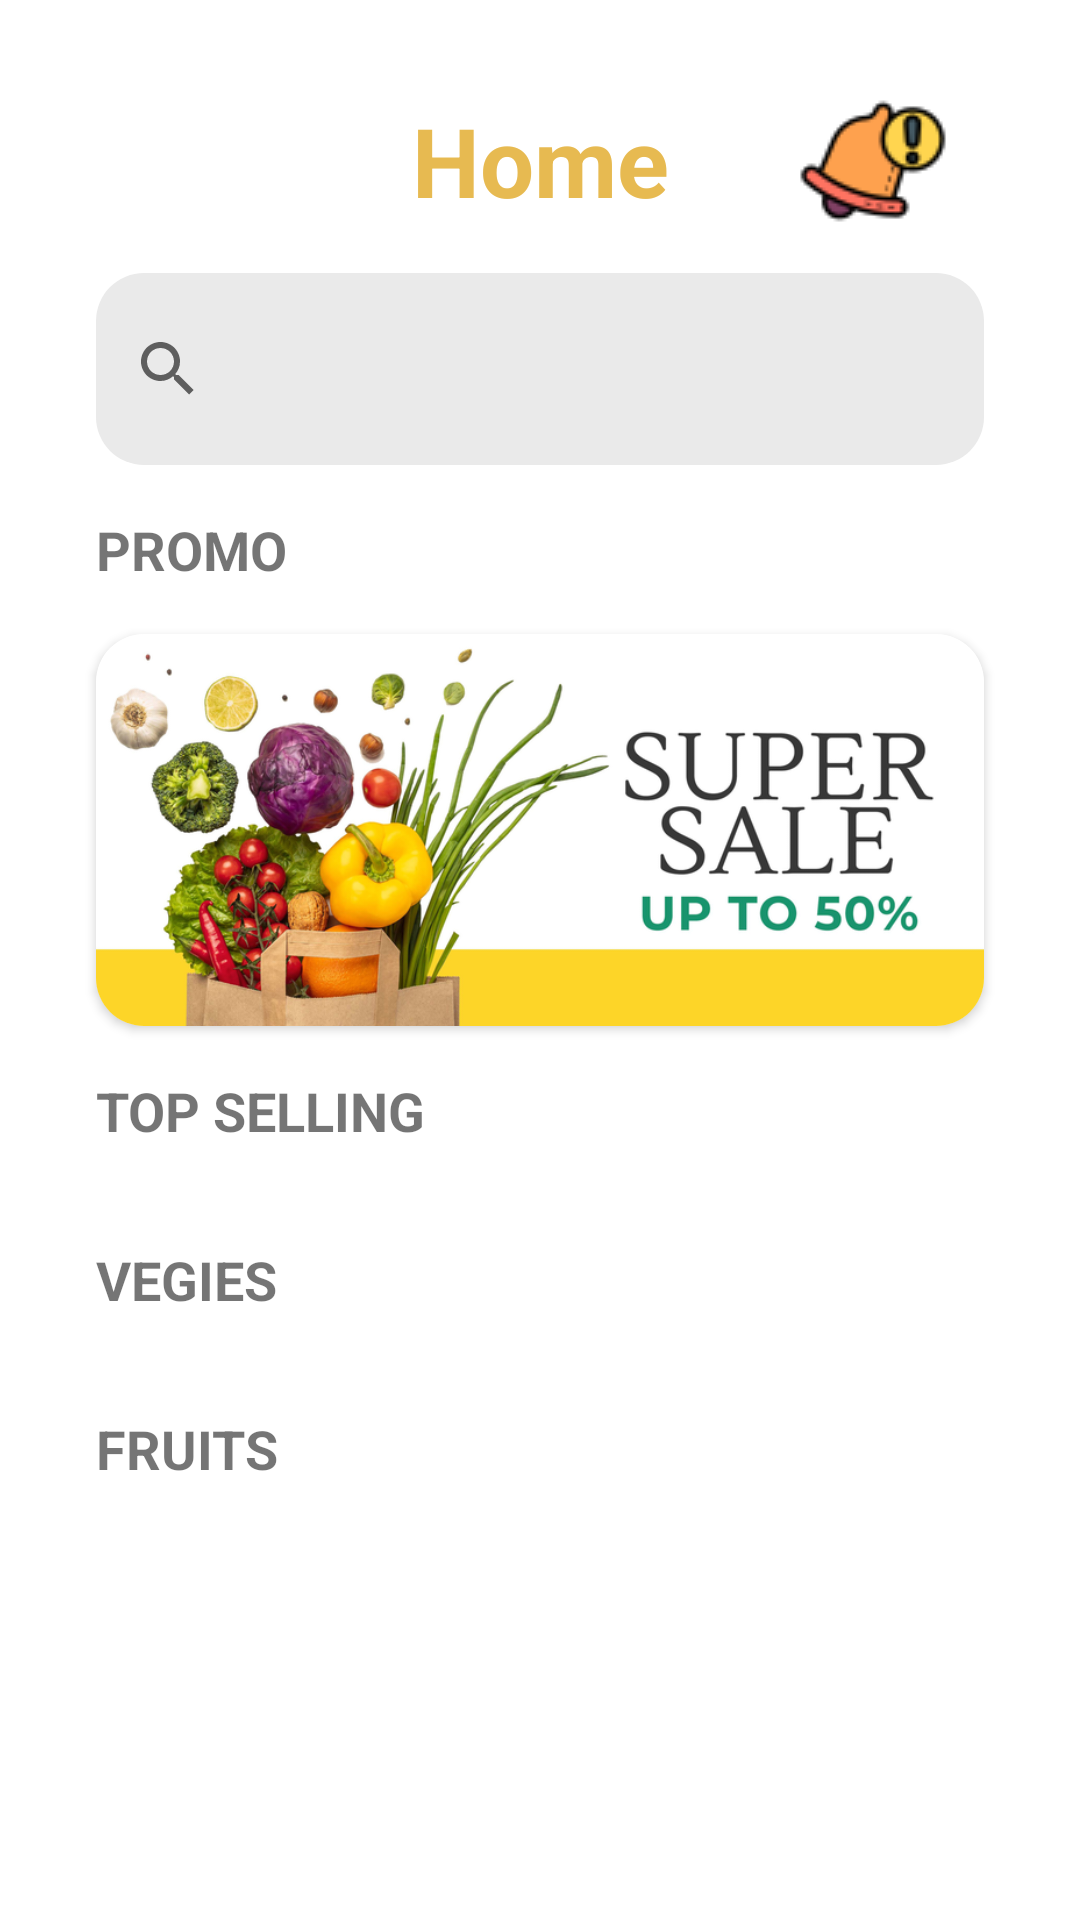

Where to tap for icons on this 1080x1920 app screen, as (x=x, y=y):
bell: (x=873, y=161)
